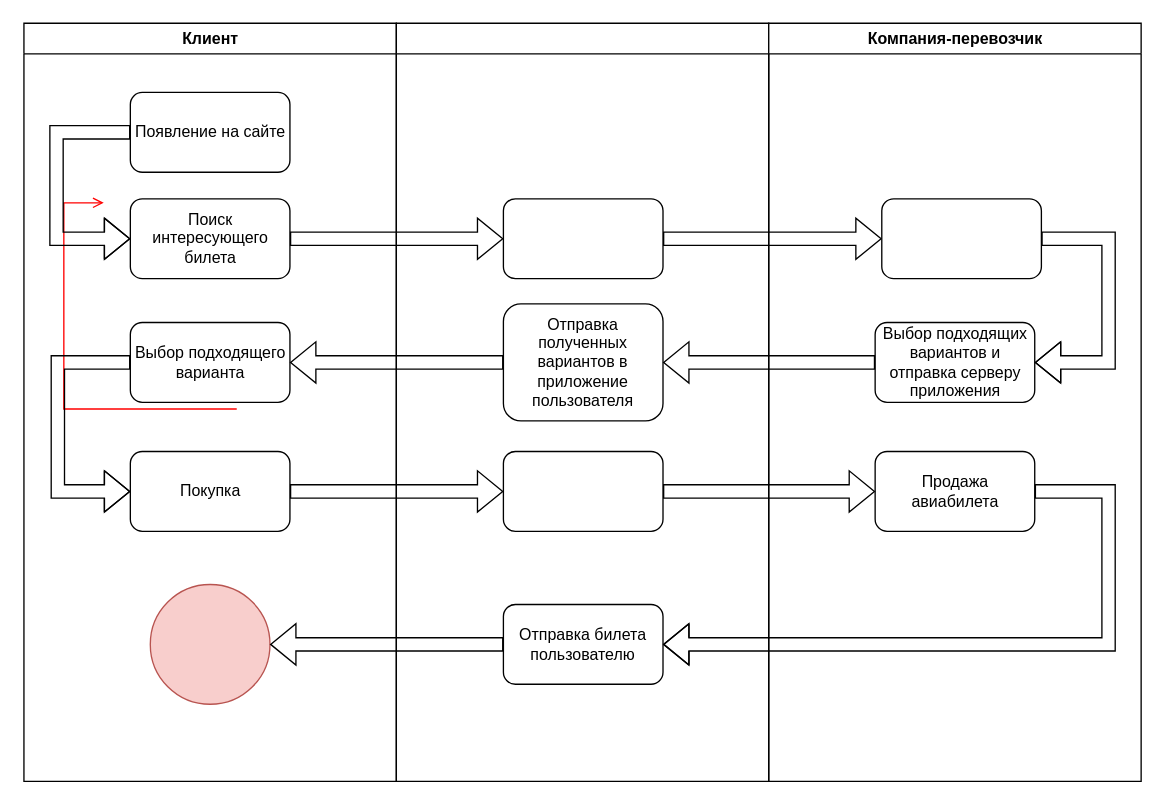
This 1164x805 diagram has some shape labels left out. The box of each missing label's shape, as (x1, y1, x2, y2) in pixels:
База билетов: (880, 198, 1041, 279)
Запрос покупки на сайт авиакомпании: (502, 450, 663, 531)
Поиск в базе: (502, 198, 663, 279)
Сервер: (395, 22, 769, 781)
Счастливый пользователь: (149, 583, 270, 704)
